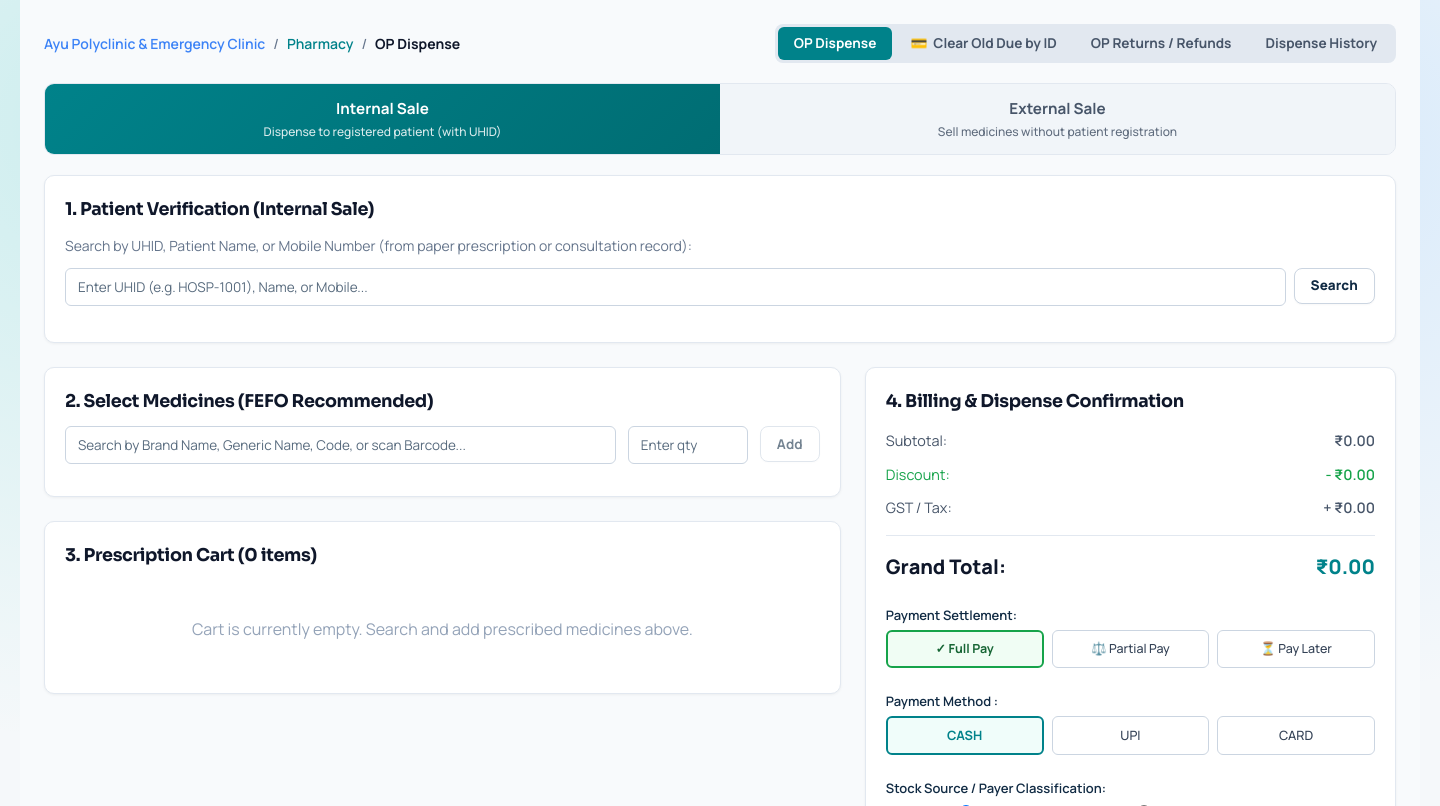
Test case: Pharmacy Module Architecture › shows expired stock in OP Dispense as unavailable instead of silently hiding it
This screenshot has width=1440, height=806.
In the field with placeholder "Search by Brand Name, Generic Name, Code, or scan Barcode...": (340, 445) top-left (65, 426), bottom-right (616, 464), type "citrezin"
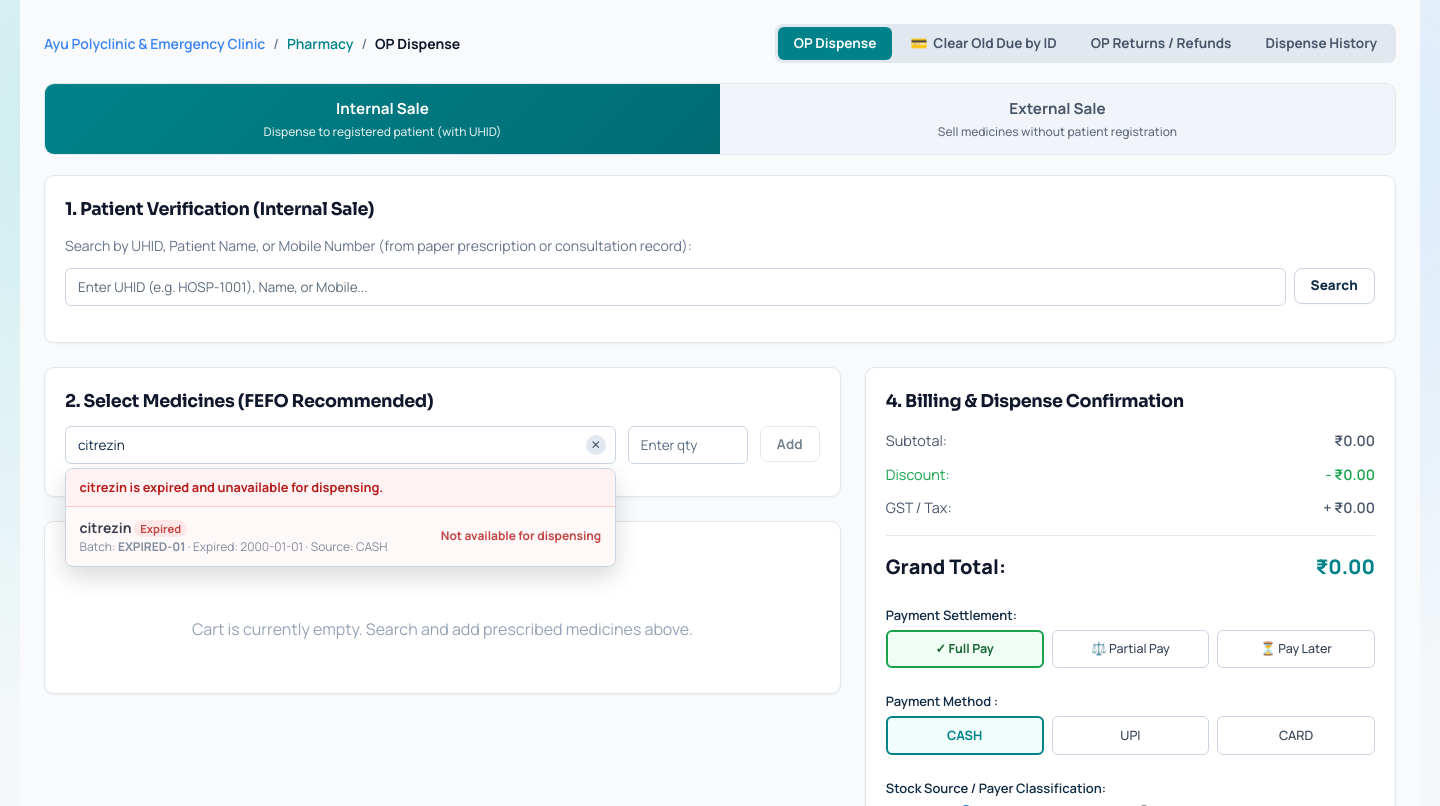
Result: the message shows "citrezin is expired and unavailable for dispensing" at top-left (80, 478), bottom-right (383, 496)
